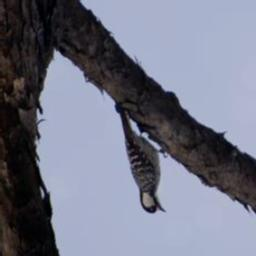Woodpecker: (110, 96, 171, 221)
